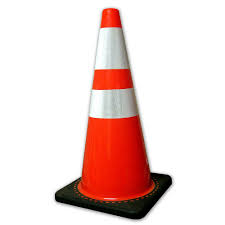cones: (57, 7, 174, 218)
